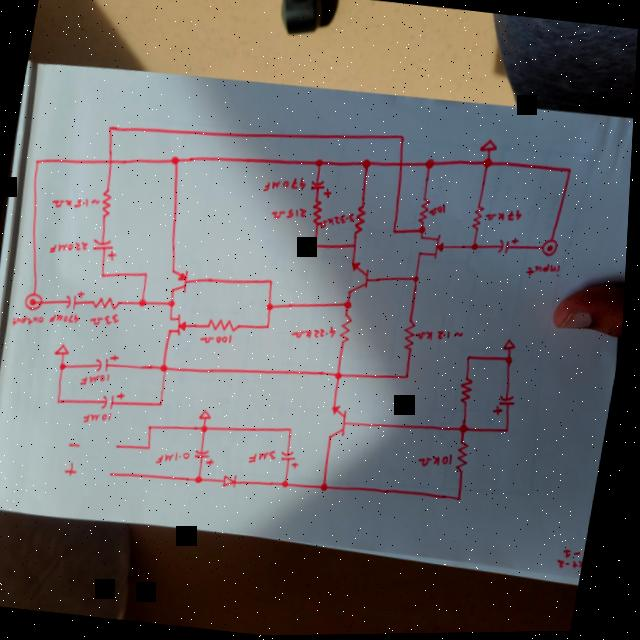capacitor: (494, 392, 521, 419), (92, 236, 121, 261), (96, 350, 123, 374), (496, 234, 522, 258), (103, 389, 129, 412), (280, 448, 305, 471), (309, 178, 335, 200), (66, 288, 88, 311), (197, 447, 221, 466)
crossover: (106, 156, 117, 167), (397, 160, 406, 169)
diode: (225, 472, 242, 489)
ground: (479, 137, 500, 155), (56, 341, 74, 357), (202, 408, 217, 422), (505, 339, 518, 352)
junction: (461, 423, 475, 436), (362, 158, 374, 170), (425, 158, 437, 170), (323, 482, 335, 494), (170, 155, 182, 167), (482, 157, 494, 169), (197, 474, 209, 485), (267, 301, 279, 312), (161, 362, 173, 373), (506, 355, 518, 366), (345, 299, 356, 310), (284, 479, 295, 490), (315, 158, 326, 169), (139, 297, 150, 308), (336, 371, 347, 382), (267, 277, 279, 287), (471, 243, 482, 253), (61, 360, 71, 371), (505, 426, 516, 436), (458, 494, 469, 504), (169, 298, 180, 308), (413, 274, 423, 284), (34, 156, 43, 167), (419, 225, 428, 236), (467, 354, 477, 363), (405, 373, 415, 382), (143, 269, 152, 279), (107, 124, 117, 133), (266, 322, 275, 331), (58, 397, 67, 406), (398, 134, 407, 143), (392, 228, 401, 236), (566, 167, 574, 176), (160, 399, 169, 407), (203, 425, 212, 433), (150, 423, 158, 431), (313, 243, 321, 250), (102, 271, 109, 279), (290, 426, 298, 433), (149, 444, 156, 451), (353, 243, 360, 250)
resistor: (205, 315, 244, 335), (456, 440, 477, 475), (403, 318, 422, 352), (339, 313, 358, 346), (460, 376, 479, 407), (353, 204, 371, 236), (92, 294, 123, 311), (100, 188, 115, 218), (417, 196, 433, 224), (471, 205, 487, 232), (310, 199, 326, 226)
terminal: (26, 290, 47, 312), (541, 238, 561, 259), (111, 469, 120, 478), (117, 442, 123, 449)
text: (416, 325, 469, 347), (263, 172, 309, 197), (292, 321, 341, 344), (52, 192, 102, 213), (319, 208, 358, 233), (49, 236, 91, 257), (419, 450, 458, 471), (526, 260, 565, 281), (270, 204, 310, 224), (159, 448, 196, 468), (486, 207, 525, 225), (13, 311, 48, 330), (91, 309, 123, 328), (202, 331, 237, 348), (251, 447, 282, 466), (85, 408, 117, 426), (83, 370, 114, 388), (51, 309, 83, 325), (429, 202, 449, 218), (67, 459, 84, 477), (71, 440, 86, 448)
transistor: (327, 402, 358, 443), (344, 259, 377, 296), (418, 232, 448, 262), (167, 311, 195, 340), (168, 266, 194, 296)
